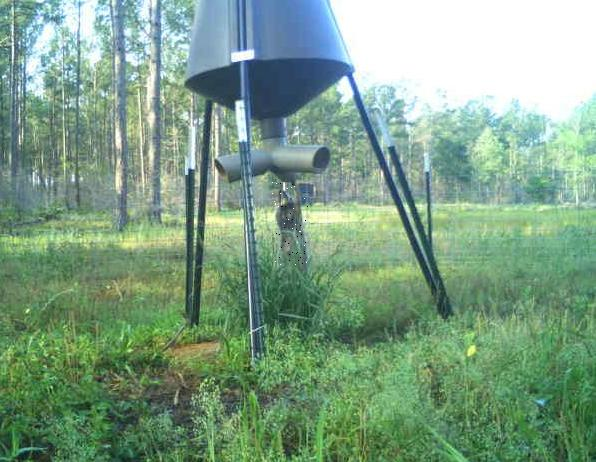Raccoon: (272, 183, 310, 266)
